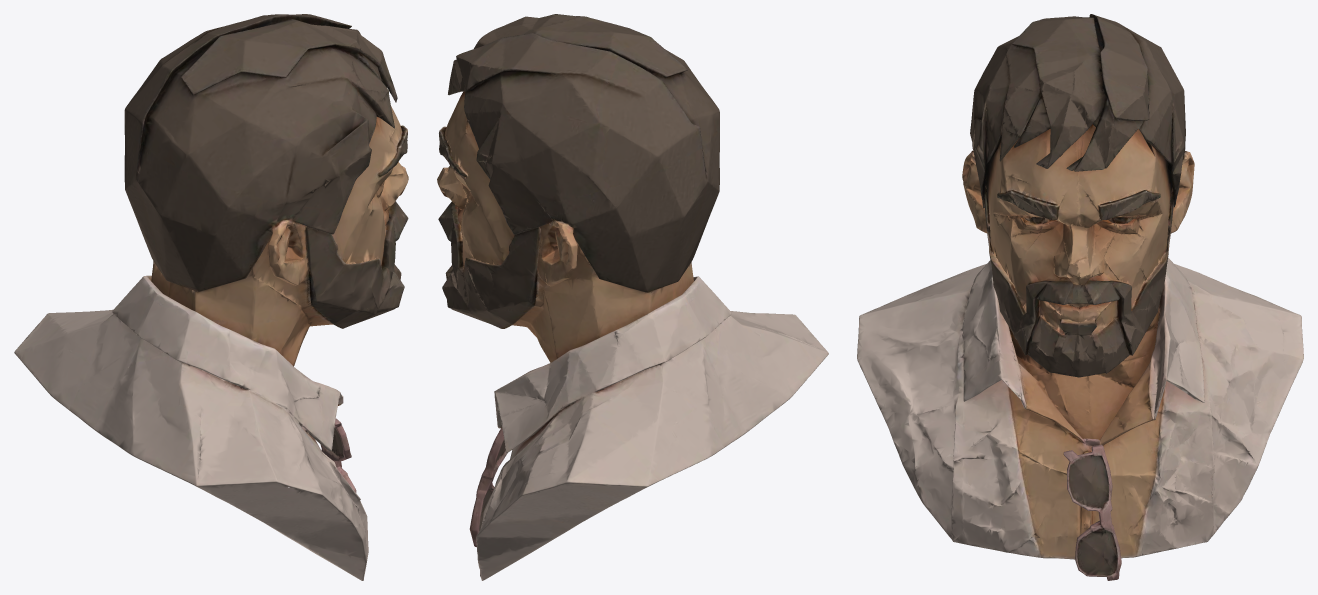
The model's file is paperbust.glb.
3 renders of one model, left to right at view 1: azimuth 30°, elevation 25°; view 2: azimuth 150°, elevation 25°; view 3: azimuth 270°, elevation 25°, orthographic. The views are drawn at different scales.
Parts seen in each view (by area): view 1: tripo_node_87c5e04c; view 2: tripo_node_87c5e04c; view 3: tripo_node_87c5e04c.
Boxes of the visible parts, left/top/right/bottom form: tripo_node_87c5e04c: left=14, top=14, right=408, bottom=580; tripo_node_87c5e04c: left=437, top=14, right=828, bottom=580; tripo_node_87c5e04c: left=857, top=14, right=1303, bottom=580.
Bounding box in the file's own units: 0.6153 × 0.9792 × 0.7809.
Materials: 1 (1 with a texture image).
